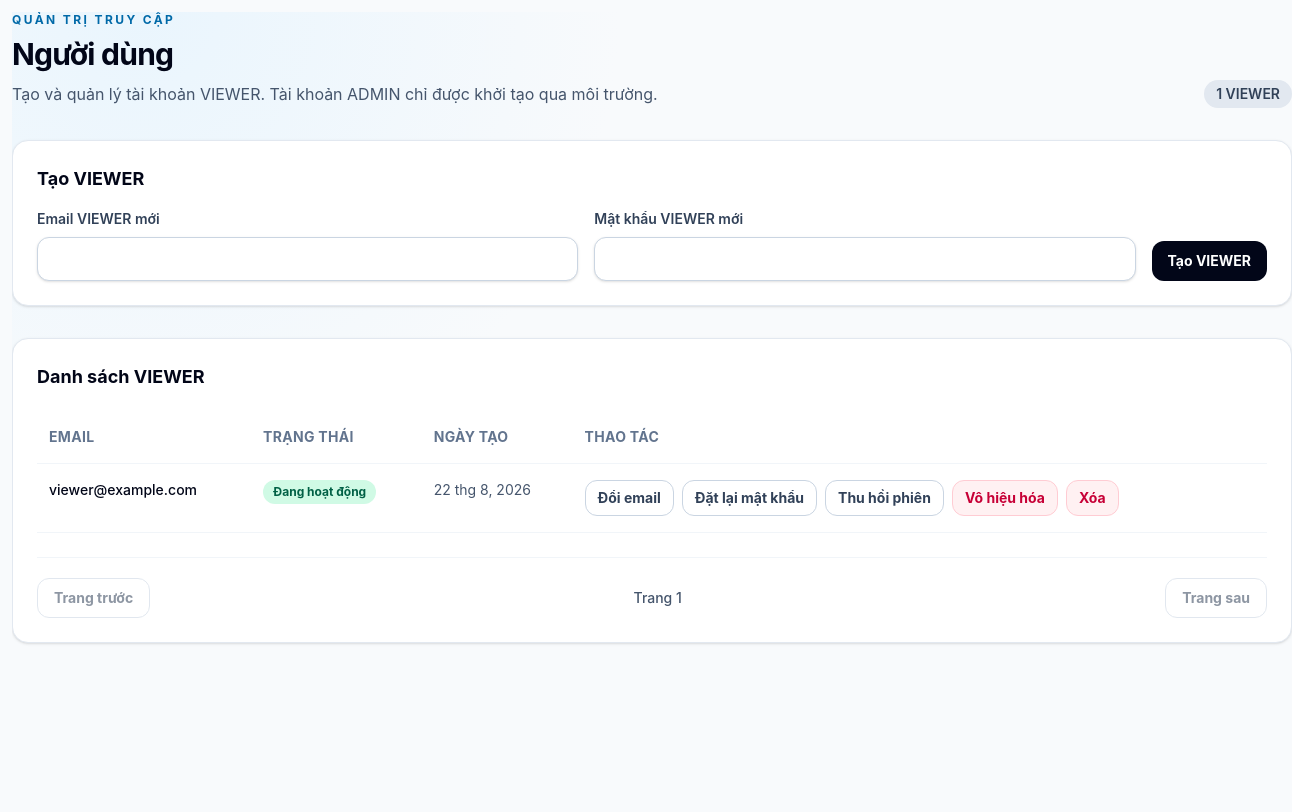
Test: UsersScreen › keeps auth and renders fixed copy for 400/VALIDATION_ERROR
Expected: the text "viewer@example.com" is shown, [37,464,251,533]
Type "duplicate@example.com" into the field labelled "Email VIEWER mới". click: (308, 259)
box: [37,237,578,281]
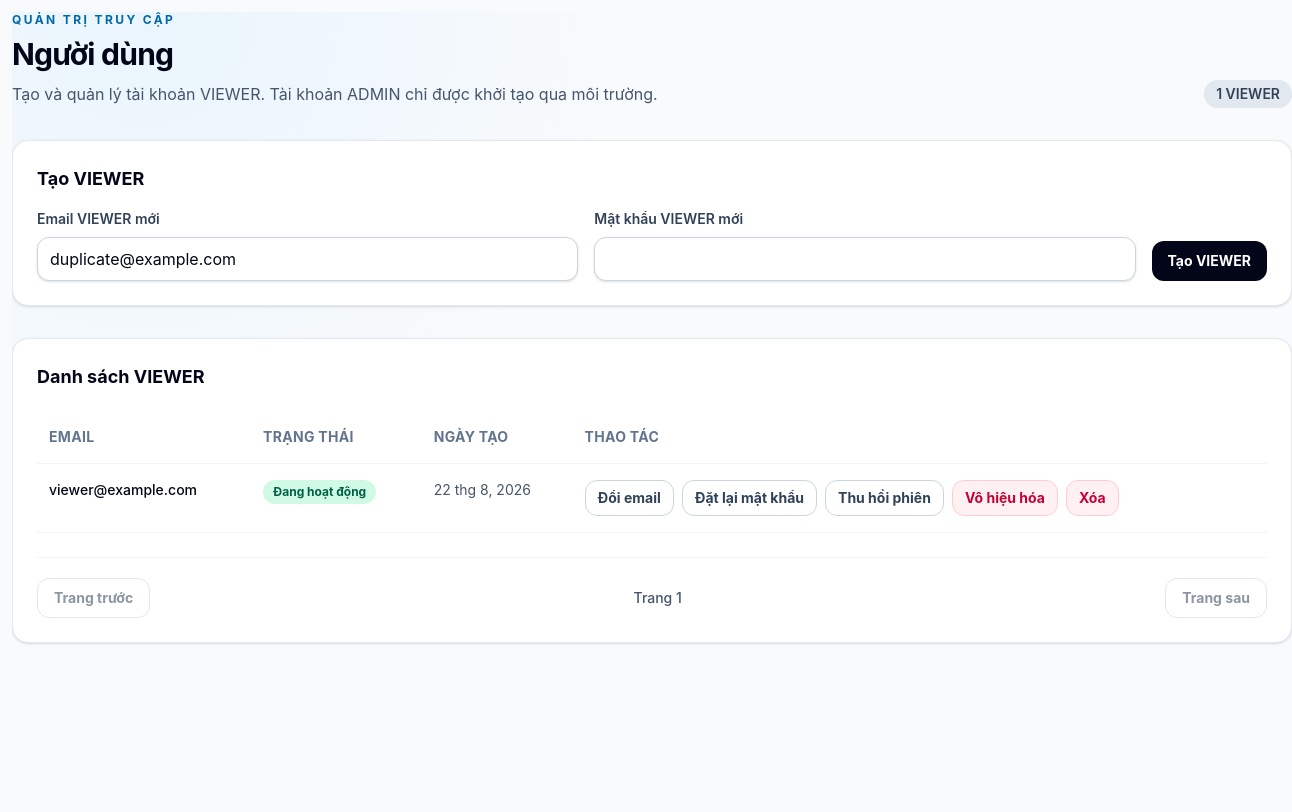
Type "password-long-enough" into the password field labelled "Mật khẩu VIEWER mới". click: (865, 259)
box: [594,237,1136,281]
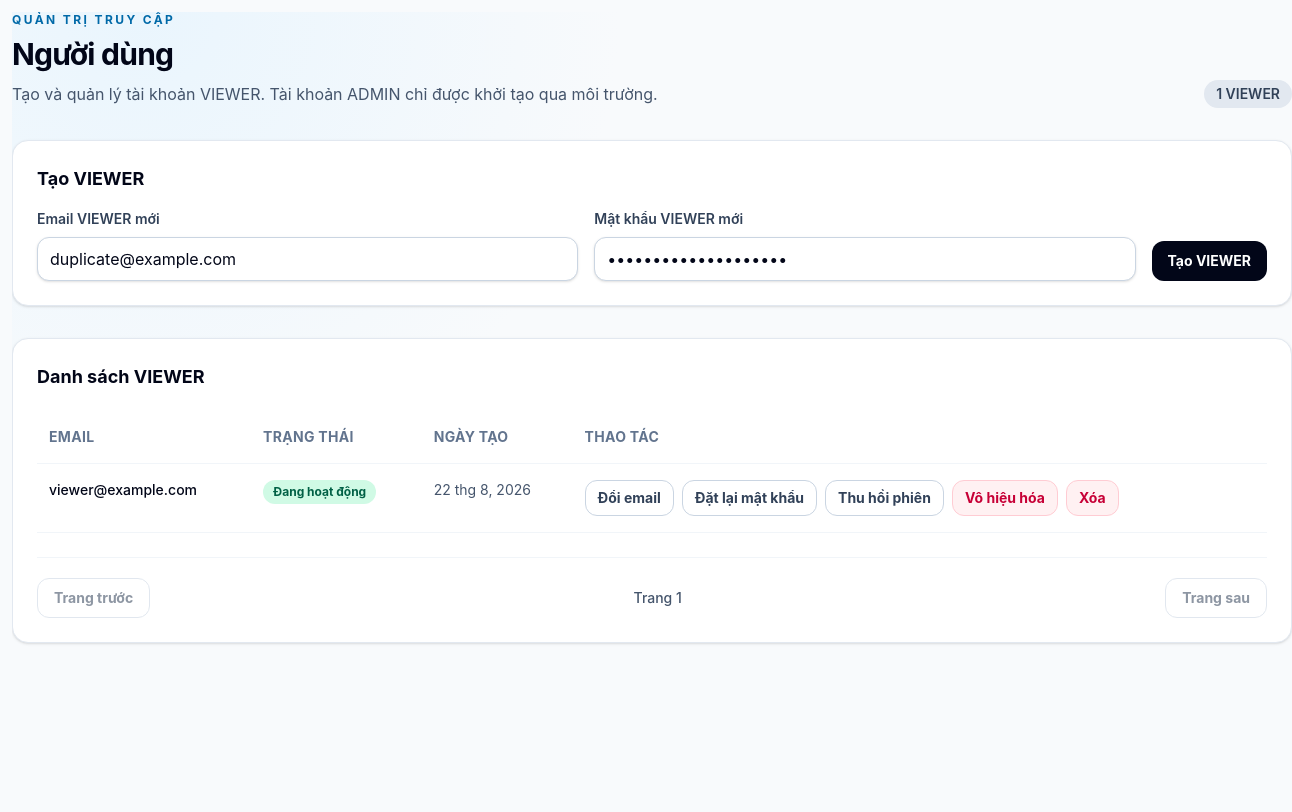
Click the button "Tạo VIEWER". click: (1209, 261)
box: [1152,241,1267,281]
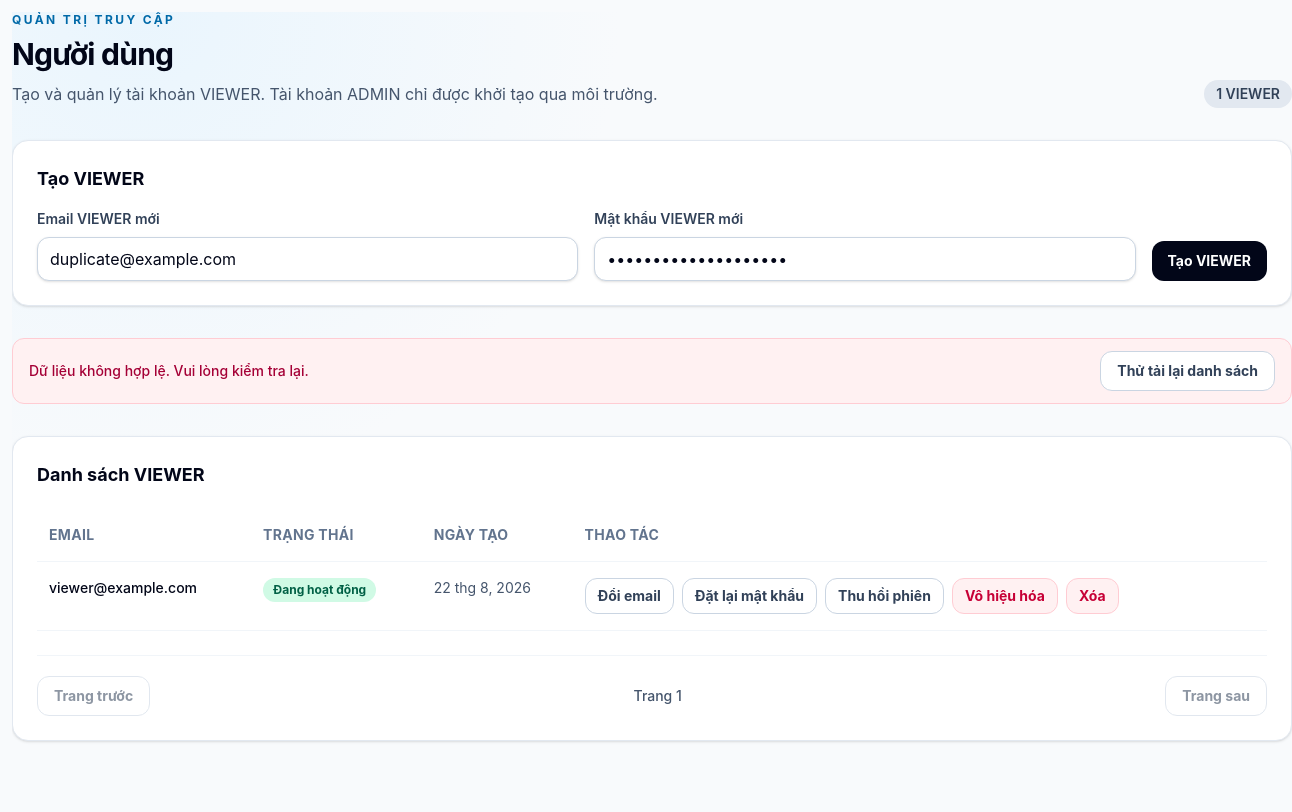
Expected: the message does not show "planted server text", [12,338,1291,404]
Expected: the message shows "Dữ liệu không hợp lệ. Vui lòng kiểm tra lại.", [29,362,309,379]
